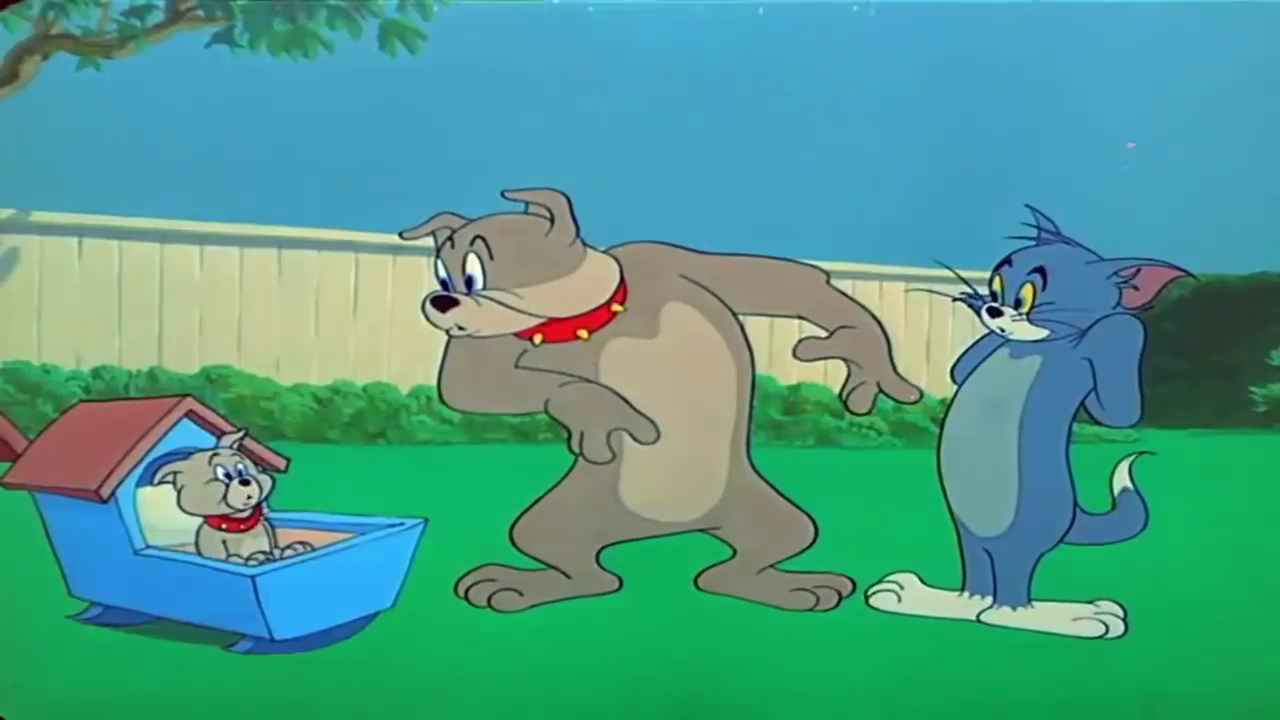spike: (398, 186, 633, 351)
tom: (950, 203, 1196, 347)
